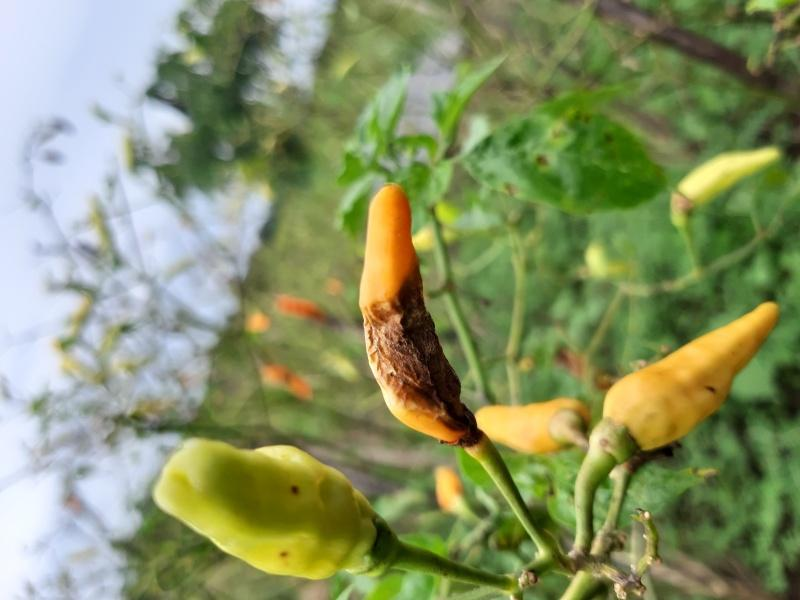antraknosa: (153, 439, 378, 577), (361, 182, 478, 440), (602, 300, 778, 452)
cabai_normal: (474, 400, 591, 456), (678, 147, 778, 202)
